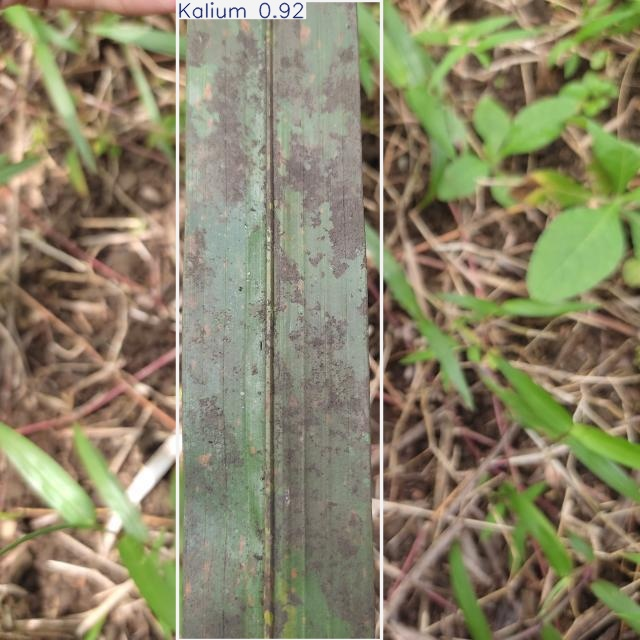Kalium: (178, 0, 381, 640)
